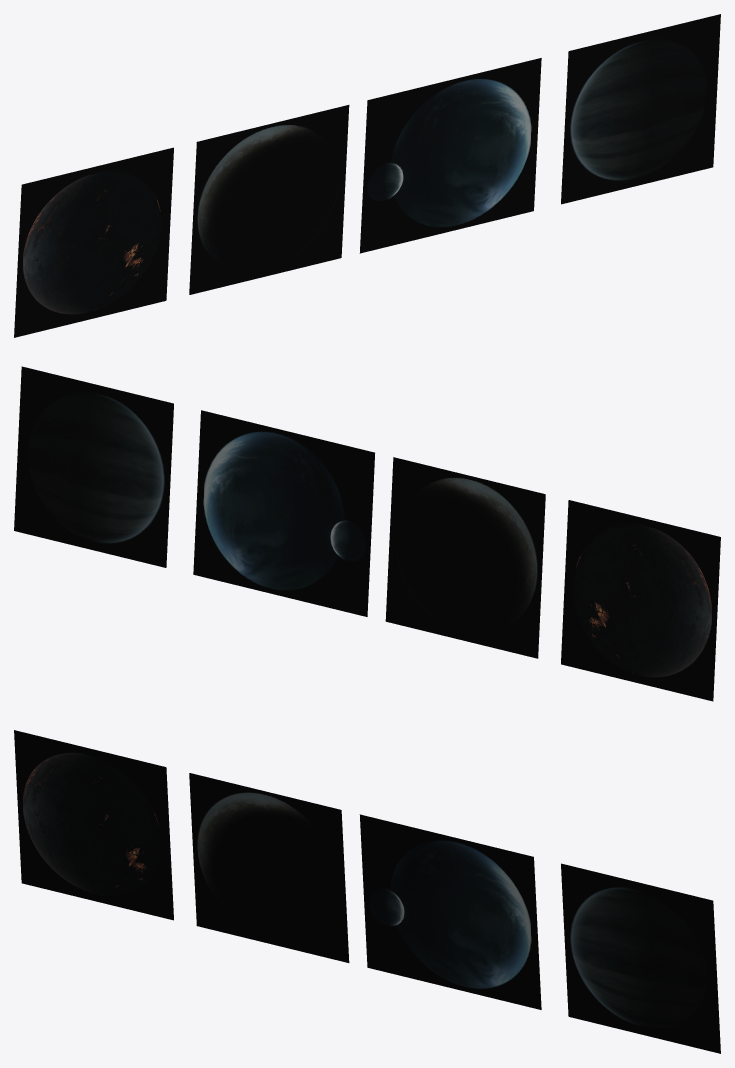
The model's file is ts_bossplan01.FBX.
The picture shows the model from 3 angles, top to bottom: view 1: azimuth 30°, elevation 25°; view 2: azimuth 150°, elevation 25°; view 3: azimuth 330°, elevation 25°; orthographic projection.
Parts seen in each view (by area): view 1: ts_bosplan03, ts_bosplan01, ts_bosplan04, ts_bosplan02; view 2: ts_bosplan03, ts_bosplan02, ts_bosplan01, ts_bosplan04; view 3: ts_bosplan03, ts_bosplan01, ts_bosplan04, ts_bosplan02.
Boxes of the visible parts, x1,y1,x2,y2 form: ts_bosplan03: [359, 58, 541, 253]; ts_bosplan01: [14, 147, 173, 337]; ts_bosplan04: [561, 14, 720, 204]; ts_bosplan02: [189, 105, 349, 294]; ts_bosplan03: [193, 410, 374, 616]; ts_bosplan02: [385, 457, 545, 658]; ts_bosplan01: [561, 500, 720, 701]; ts_bosplan04: [14, 366, 173, 567]; ts_bosplan03: [359, 814, 541, 1009]; ts_bosplan01: [14, 730, 173, 920]; ts_bosplan04: [561, 863, 720, 1053]; ts_bosplan02: [189, 773, 349, 962].
Size of the model in its own units: 68.8 by 14.94 by 1.31.
